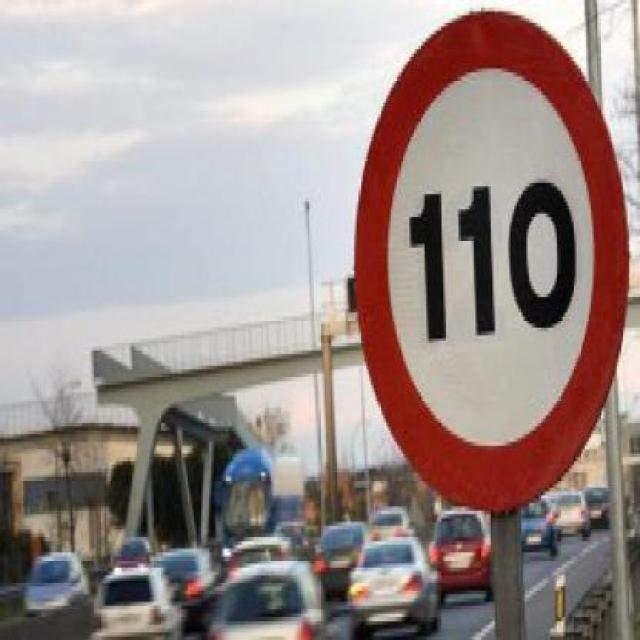speed limit 110: (353, 10, 634, 521)
